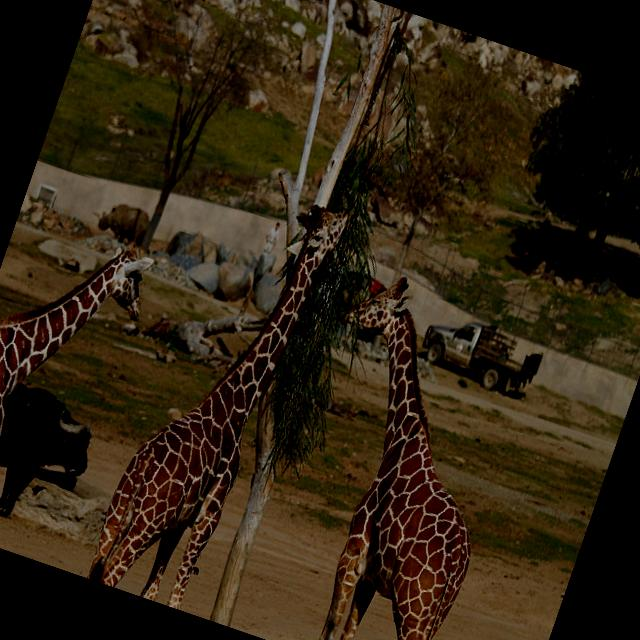Vehicle: (414, 302, 547, 403)
